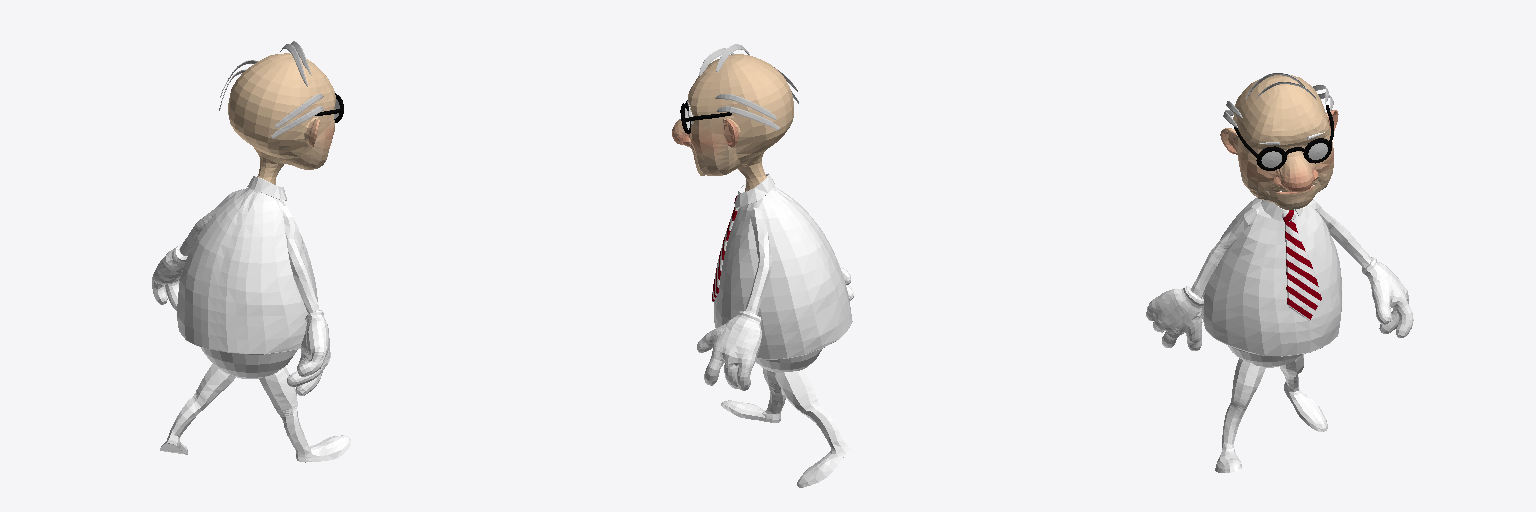
3 renders of one model, left to right at view 1: azimuth 30°, elevation 25°; view 2: azimuth 150°, elevation 25°; view 3: azimuth 270°, elevation 25°, orthographic.
Visible parts, largest first — view 1: Figure_1; view 2: Figure_1; view 3: Figure_1.
Part boxes in pixels (x1,y1,x2,y2): Figure_1: (152, 41, 350, 462); Figure_1: (672, 44, 853, 487); Figure_1: (1146, 73, 1413, 472).
Bounding box in the file's own units: 0.1933 × 0.4359 × 0.2624.
Materials: 18 (1 with a texture image).